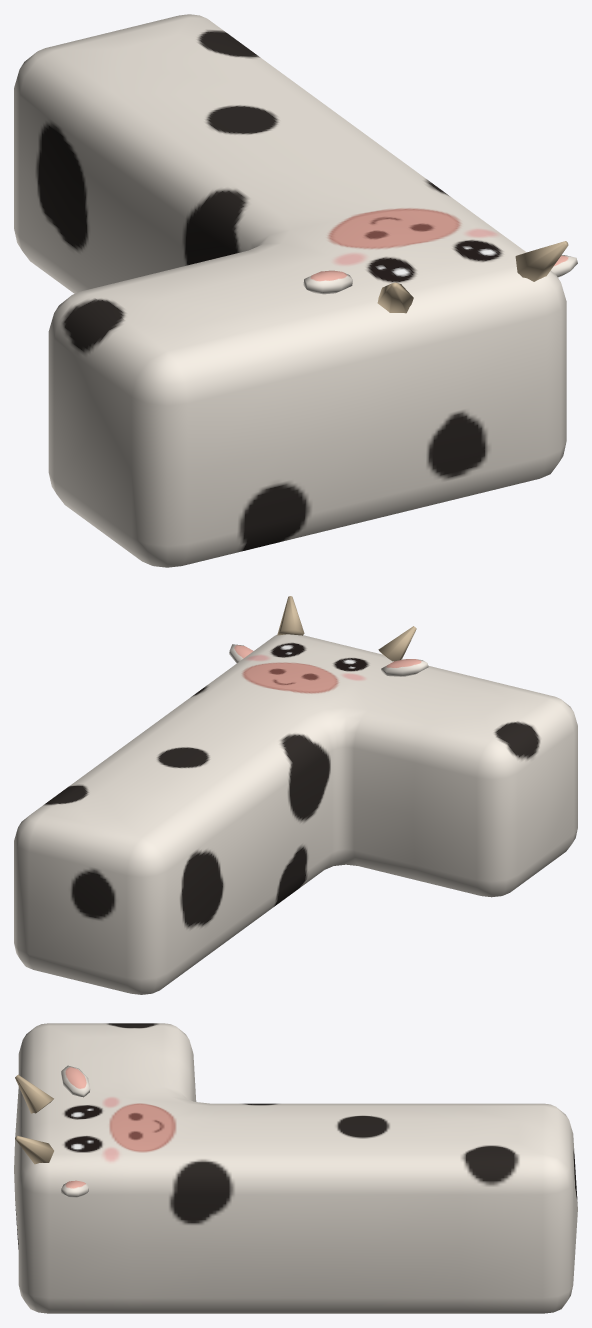
File: Cow_LMirror.fbx
3 renders of one model, top to bottom at view 1: azimuth 30°, elevation 25°; view 2: azimuth 150°, elevation 25°; view 3: azimuth 270°, elevation 25°, orthographic. The views are drawn at different scales.
Parts seen in each view (by area): view 1: Cow_LMirror; view 2: Cow_LMirror; view 3: Cow_LMirror.
Part boxes in pixels (x1,y1,x2,y2): Cow_LMirror: (14,14,577,567); Cow_LMirror: (14,596,577,994); Cow_LMirror: (14,1023,577,1313).
Bounding box in the file's own units: 2.08 × 1.02 × 2.97.
Materials: 1 (1 with a texture image).
